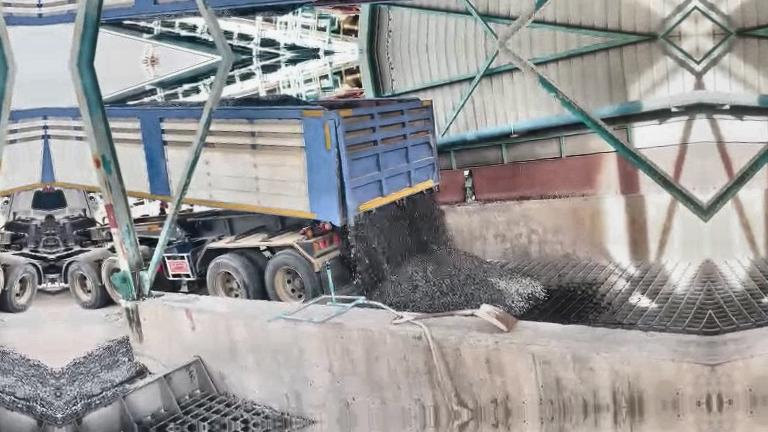gravel: (343, 192, 547, 315), (58, 337, 136, 423), (219, 94, 322, 107)
